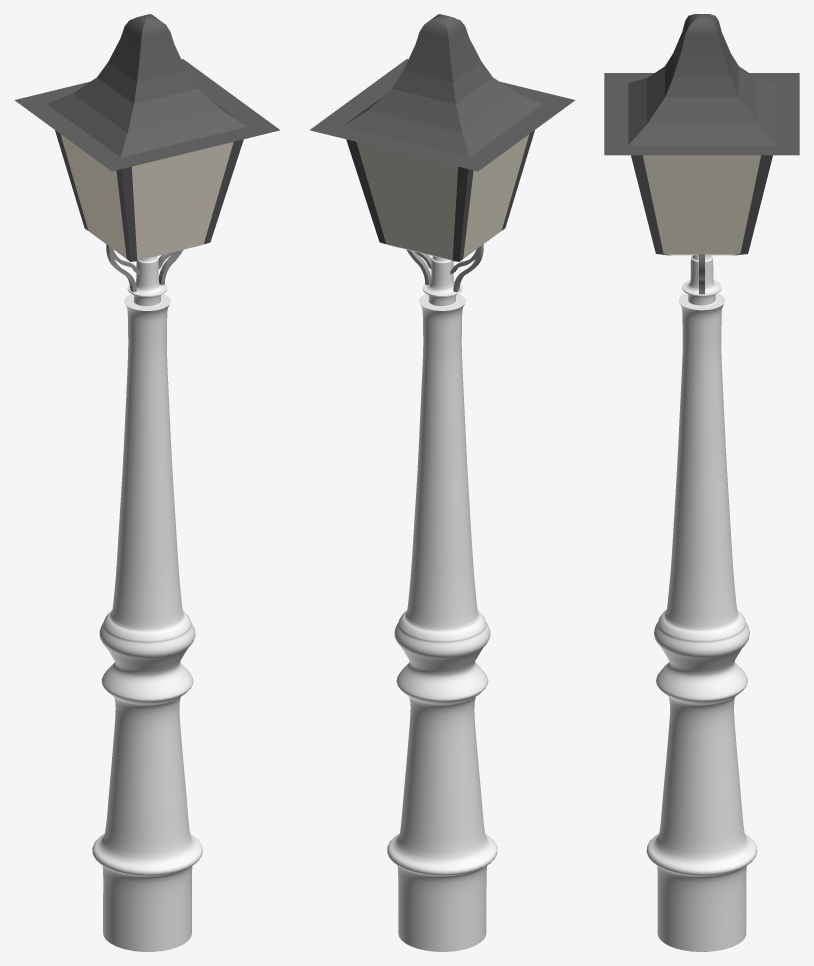
Rendered from Street_Lamp.fbx.
3 views of the same model, side by side, from view 1: azimuth 30°, elevation 25°; view 2: azimuth 150°, elevation 25°; view 3: azimuth 270°, elevation 25° (orthographic).
Visible parts, largest first — view 1: Lamp_Pole, Lamp; view 2: Lamp_Pole, Lamp; view 3: Lamp_Pole, Lamp.
Part boxes in pixels (x1,y1,x2,y2): Lamp_Pole: [92, 256, 202, 951]; Lamp: [14, 14, 280, 261]; Lamp_Pole: [387, 256, 497, 951]; Lamp: [309, 14, 575, 261]; Lamp_Pole: [646, 255, 757, 951]; Lamp: [604, 14, 799, 255].
Size of the model in its own units: 0.9194 by 4.77 by 0.9194.
